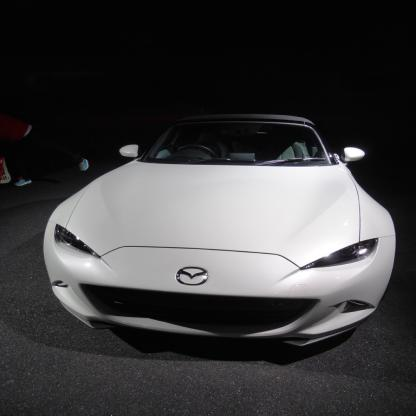Car: (44, 115, 396, 348)
